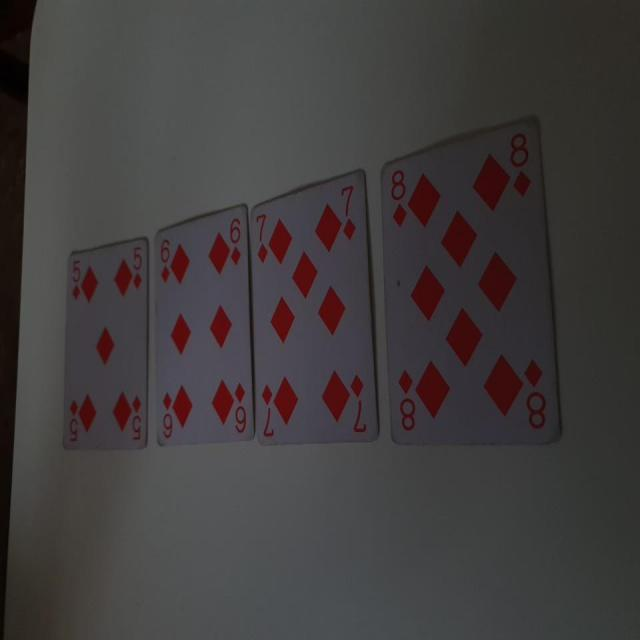5 Diamonds: (57, 232, 152, 455)
6 Diamonds: (149, 201, 252, 448)
7 Diamonds: (246, 170, 379, 445)
8 Diamonds: (380, 118, 567, 446)
